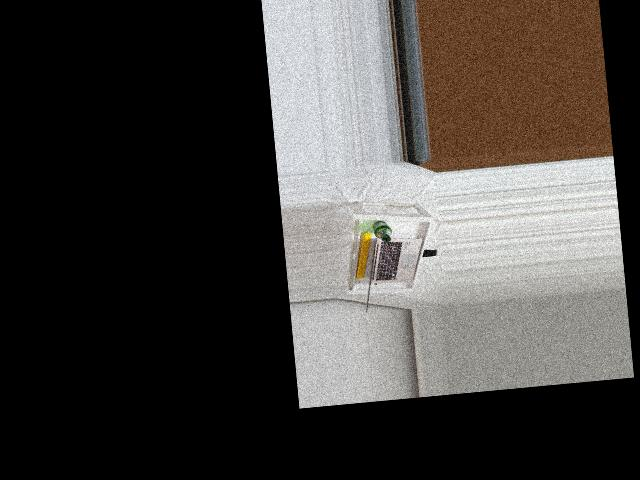beer: (372, 219, 392, 242)
